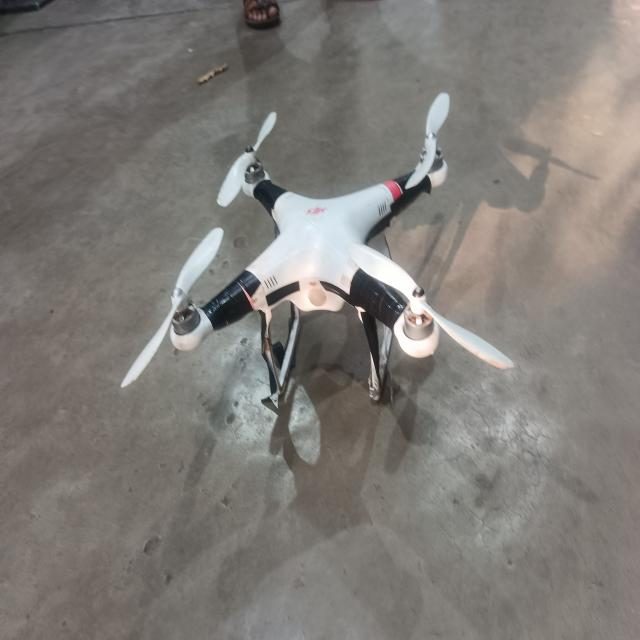drone: (90, 81, 533, 474)
